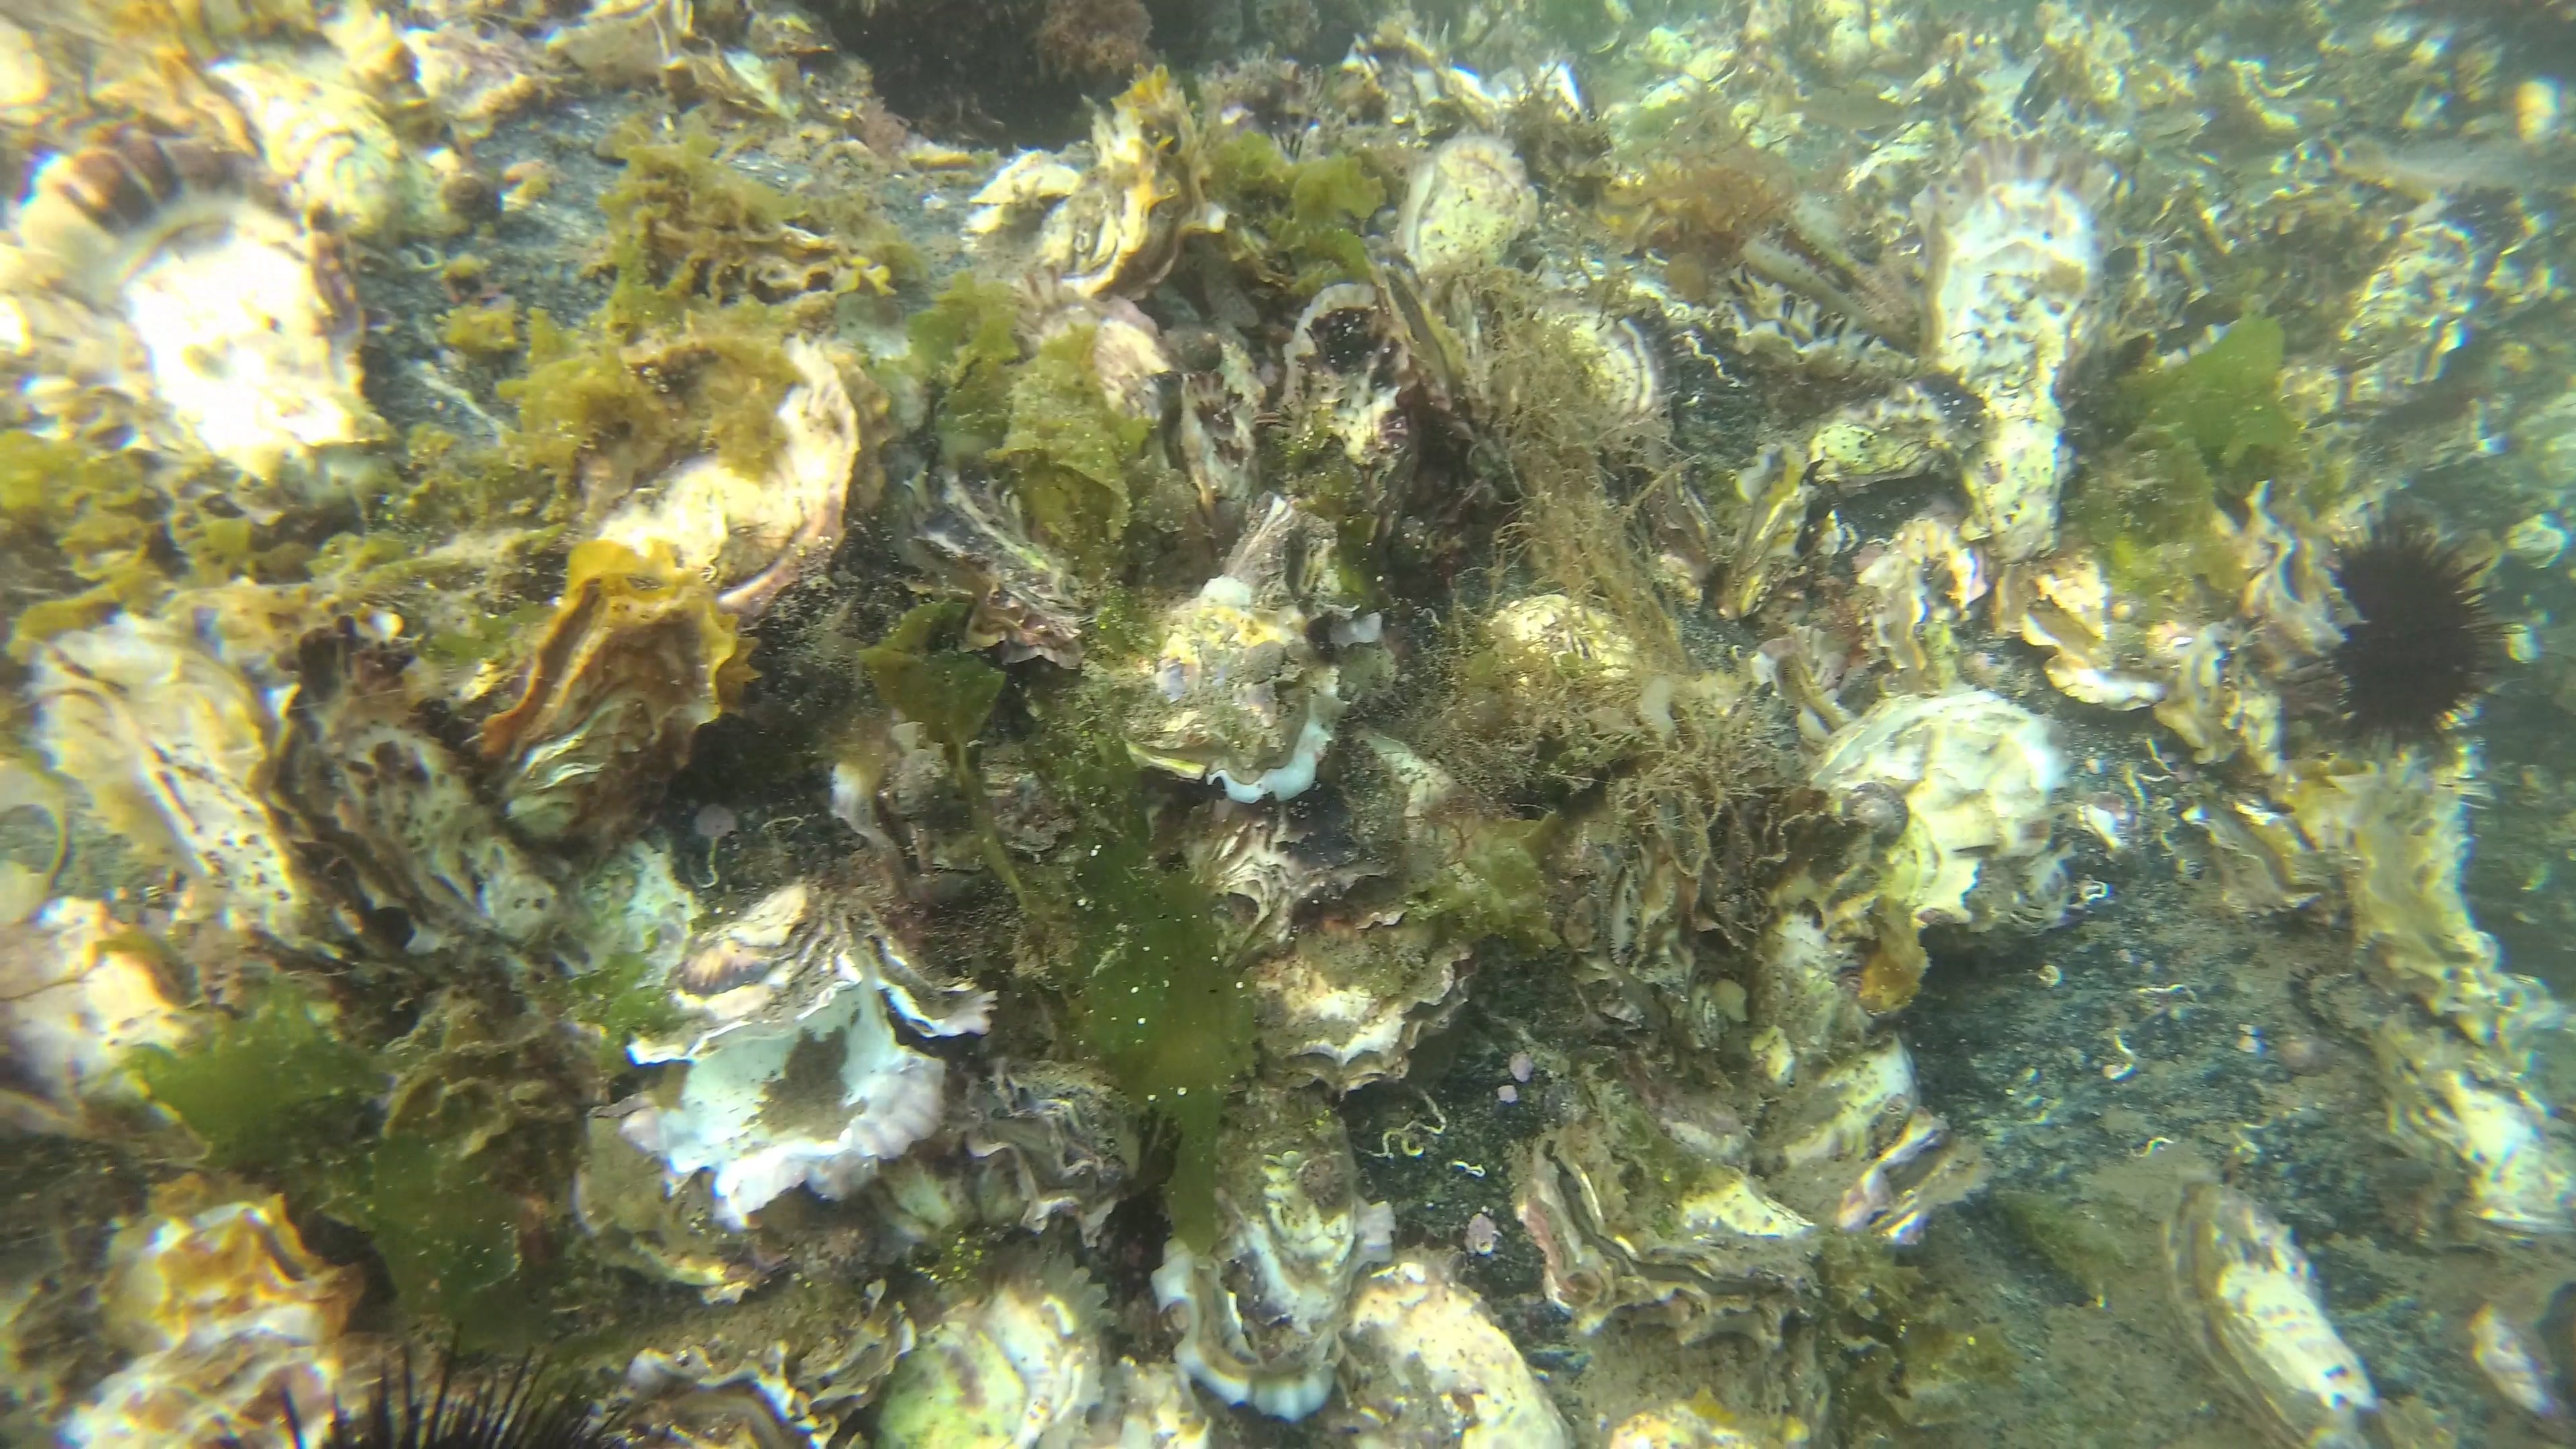echinus: (274, 1323, 671, 1449), (2332, 522, 2518, 750)
